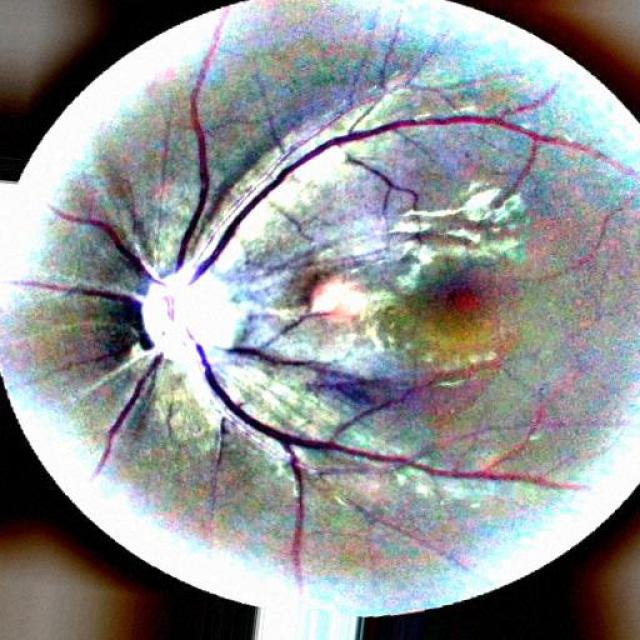Macula: (431, 279, 488, 329)
Nerves: (199, 345, 579, 574), (190, 111, 639, 284), (175, 9, 228, 270), (6, 280, 152, 351), (51, 206, 165, 286), (95, 370, 149, 472), (228, 348, 310, 366)
Optic Disk: (145, 265, 245, 359)
